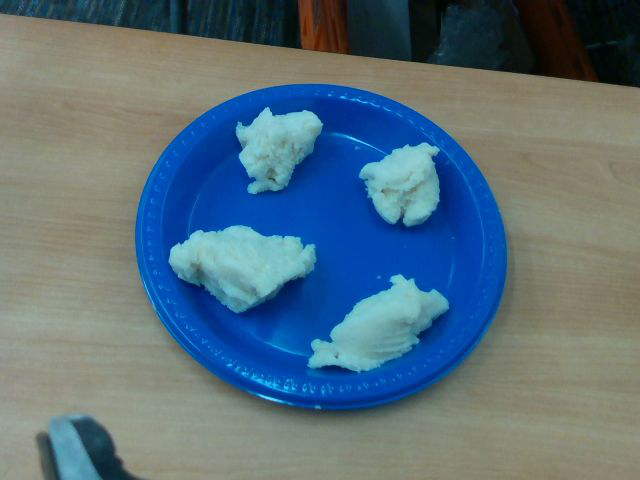mashed_potato: (309, 274, 448, 372), (169, 225, 316, 314), (236, 108, 323, 194), (358, 142, 441, 226)
